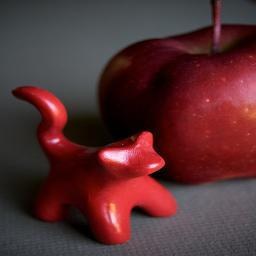apple: (100, 24, 256, 180)
